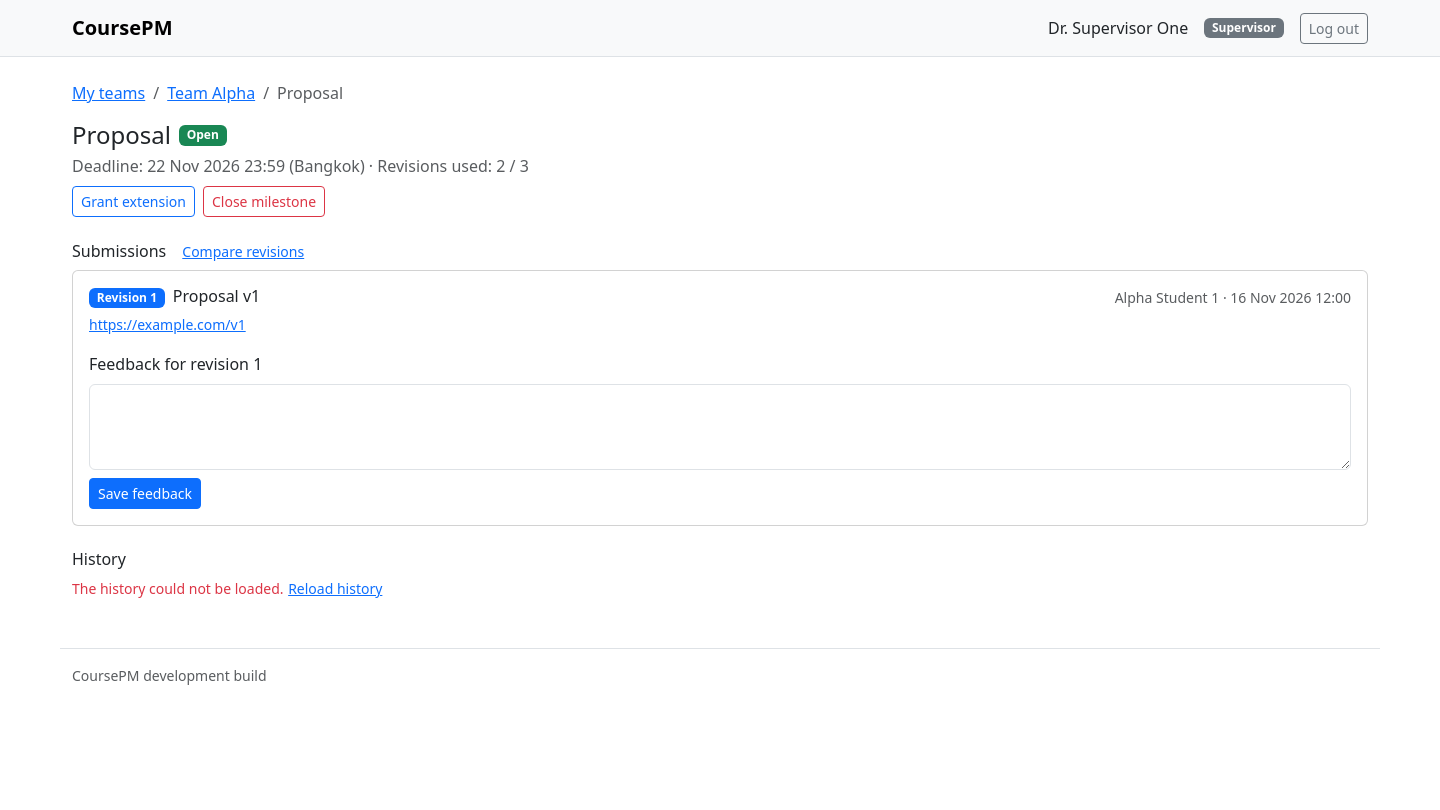
Test: F-06 feedback UI › TEST-UI-06 (AC-06-6): a 400 field error stays beside the textarea and preserves the text
Type "Draft feedback" into the text box labelled "Feedback for revision 1" at (720, 427), box [89,384,1351,470]
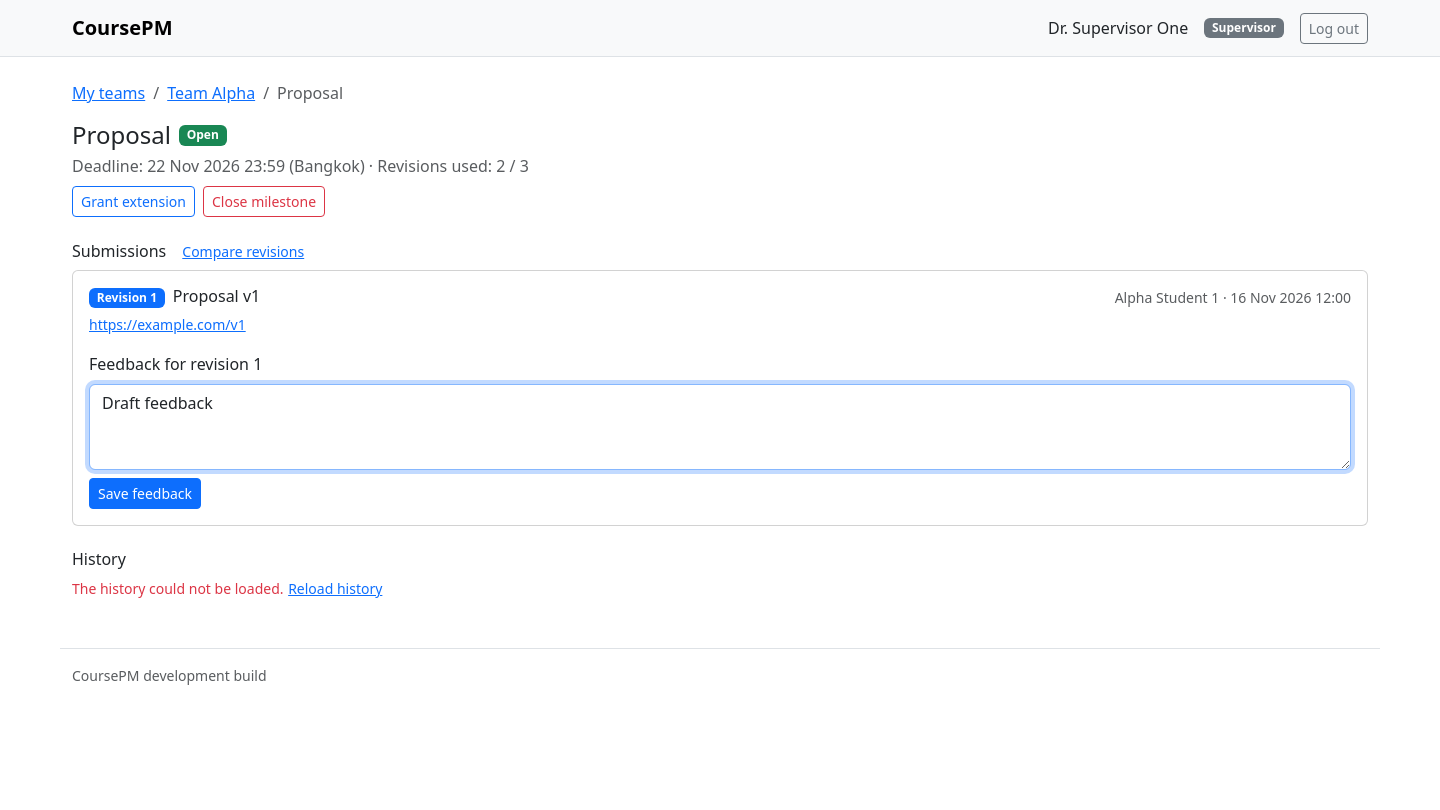
Click the button "Save feedback" at (145, 494), box [89,478,201,509]
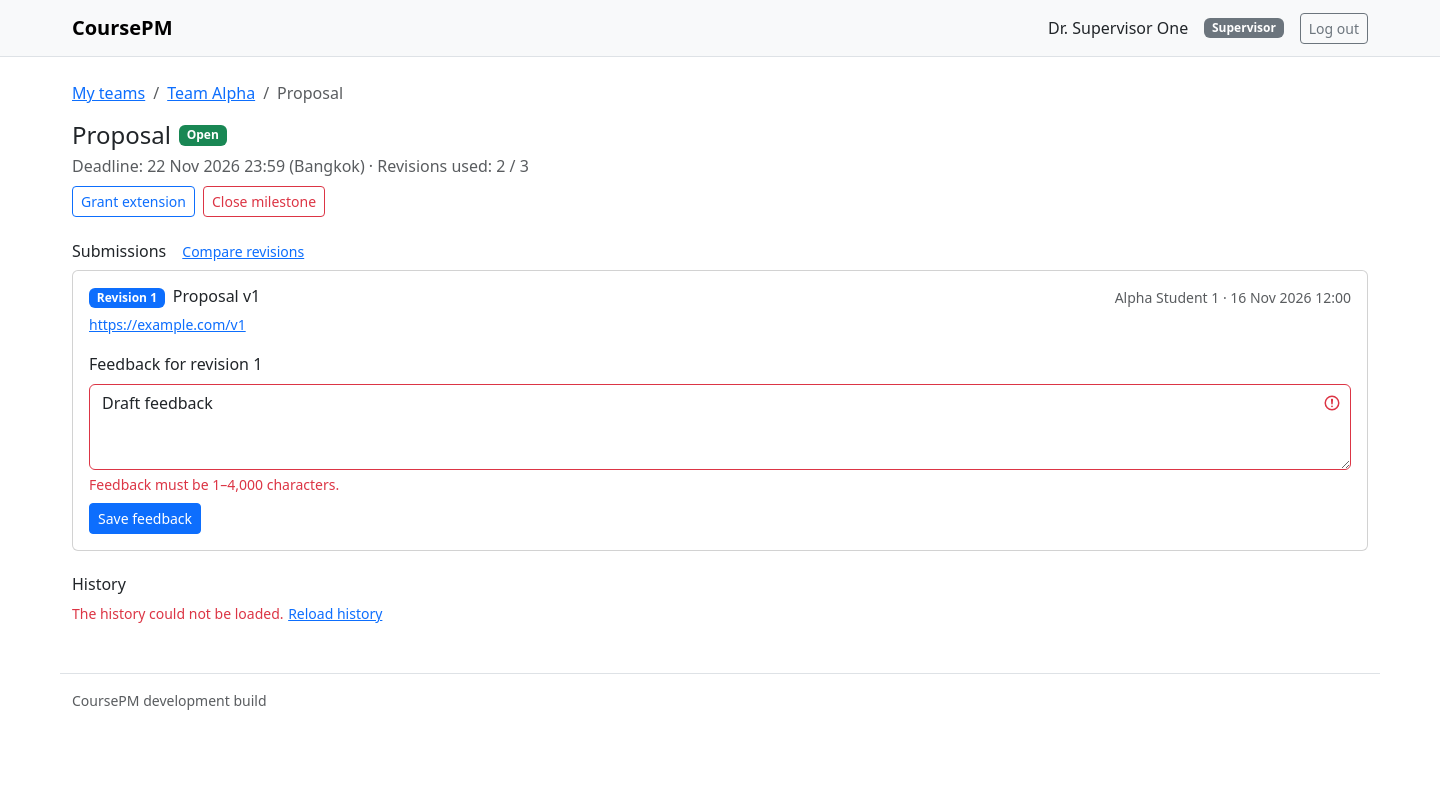
Expected: the text "Feedback must be 1–4,000 characters." is shown, [89,475,339,494]
